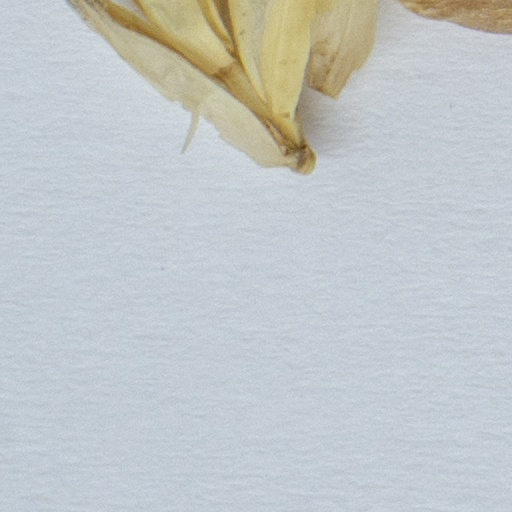Peel-poly: (57, 0, 380, 171)
